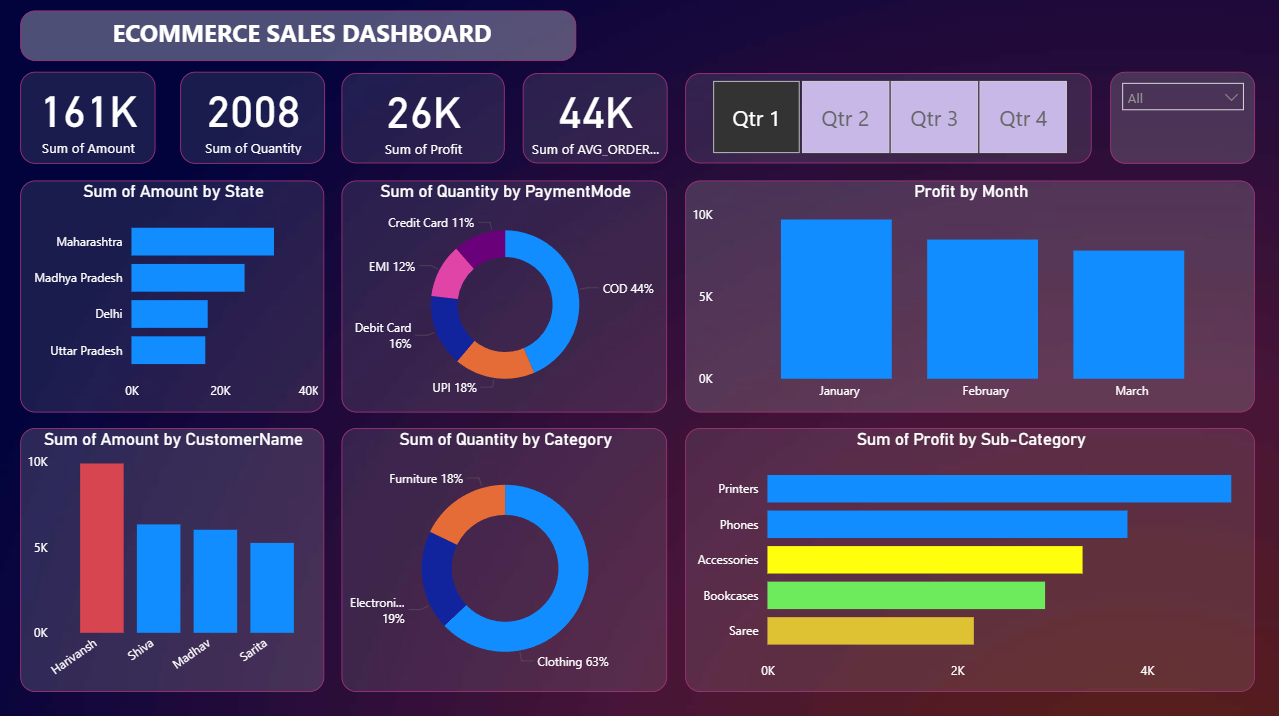

What the dashboard file says about the page in this screenshot:
{"tool":"powerbi","page":{"name":"Page 1","canvas":[1280,720],"ordinal":0},"visuals":[{"type":"textbox","box":[21.7,12.1,556.2,50.7],"z":0},{"type":"columnChart","title":" Profit by Month","fields":{"Category":["orders_bi.Order Date.Variation.Date Hierarchy.Month"],"Y":["Sum(Details_bi.Profit)"]},"box":[686.5,182.2,569.4,231.6],"z":1000},{"type":"barChart","fields":{"Category":["Details_bi.Sub-Category"],"Y":["Sum(Details_bi.Profit)"]},"box":[686.5,429.5,569.4,264.2],"z":2000},{"type":"donutChart","fields":{"Category":["Details_bi.Category"],"Y":["Sum(Details_bi.Quantity)"]},"box":[342.6,429.5,325.7,264.2],"z":3000},{"type":"donutChart","fields":{"Category":["Details_bi.PaymentMode"],"Y":["Sum(Details_bi.Quantity)"]},"box":[342.6,182.2,325.7,231.6],"z":4000},{"type":"card","fields":{"Values":["Sum(Details_bi.Amount)"]},"box":[21.7,73.6,135.1,91.7],"z":5000},{"type":"card","fields":{"Values":["Sum(Details_bi.Quantity)"]},"box":[181,73.6,144.8,91.7],"z":6000},{"type":"card","fields":{"Values":["Sum(Details_bi.Profit)"]},"box":[342.6,74.8,162.9,90.5],"z":7000},{"type":"card","fields":{"Values":["Sum(Details_bi.AVG_ORDER_VALUE)"]},"box":[523.6,74.8,144.8,90.5],"z":8000},{"type":"barChart","fields":{"Category":["orders_bi.State"],"Y":["Sum(Details_bi.Amount)"]},"box":[21.7,182.2,304,231.6],"z":9000},{"type":"columnChart","fields":{"Category":["orders_bi.CustomerName"],"Y":["Sum(Details_bi.Amount)"]},"box":[21.7,429.5,304,264.2],"z":10000},{"type":"slicer","fields":{"Values":["orders_bi.Order Date.Variation.Date Hierarchy.Quarter"]},"box":[686.5,74.8,406.6,90.5],"z":11000},{"type":"slicer","fields":{"Values":["orders_bi.State"]},"box":[1111.1,73.6,144.8,91.7],"z":12000}]}

Visuals, with their boxes in screenshot pixels (x1, y1, x2, y2), scaled from the page's 1280x720 canvas onto the 1279x716 screenshot:
textbox: (22, 12, 577, 62)
" Profit by Month" columnChart: (686, 181, 1255, 412)
barChart - Details_bi.Sub-Category x Sum(Details_bi.Profit): (686, 427, 1255, 690)
donutChart - Details_bi.Category x Sum(Details_bi.Quantity): (342, 427, 668, 690)
donutChart - Details_bi.PaymentMode x Sum(Details_bi.Quantity): (342, 181, 668, 412)
card - Sum(Details_bi.Amount): (22, 73, 157, 164)
card - Sum(Details_bi.Quantity): (181, 73, 326, 164)
card - Sum(Details_bi.Profit): (342, 74, 505, 164)
card - Sum(Details_bi.AVG_ORDER_VALUE): (523, 74, 668, 164)
barChart - orders_bi.State x Sum(Details_bi.Amount): (22, 181, 325, 412)
columnChart - orders_bi.CustomerName x Sum(Details_bi.Amount): (22, 427, 325, 690)
slicer - orders_bi.Order Date.Variation.Date Hierarchy.Quarter: (686, 74, 1092, 164)
slicer - orders_bi.State: (1110, 73, 1255, 164)
